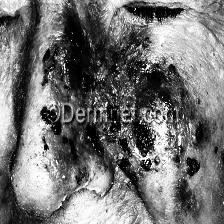Potentially Malignant Skin Tumors: (48, 0, 188, 104), (51, 120, 200, 217)
